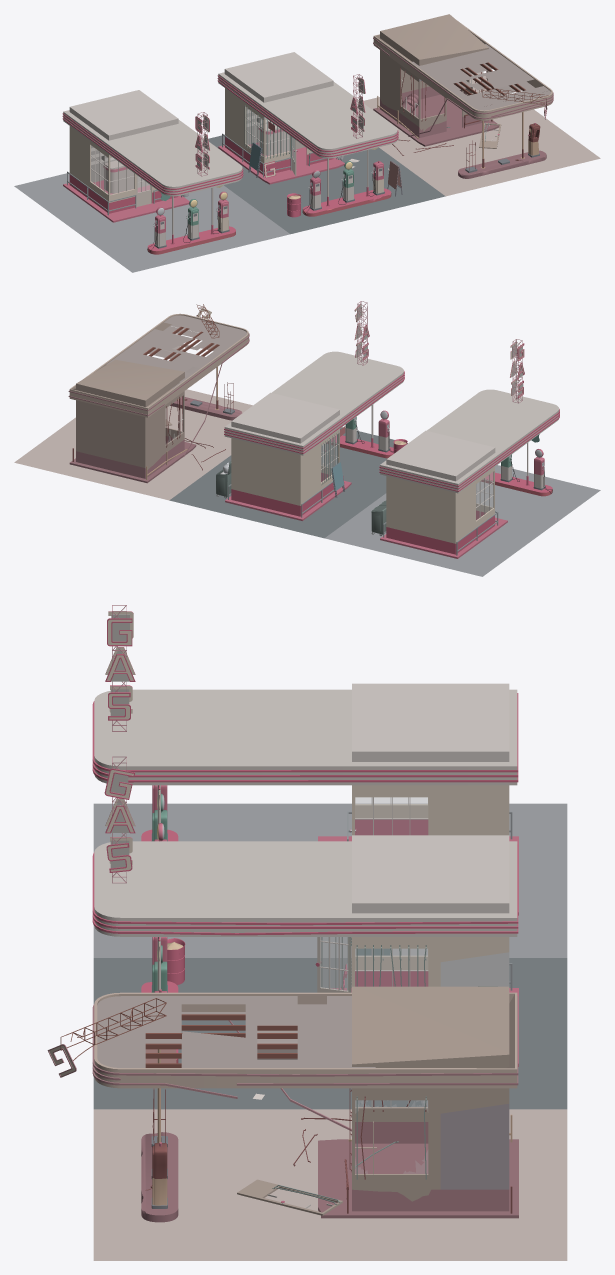
Rendered from gas_stations.glb.
3 renders of one model, top to bottom at view 1: azimuth 30°, elevation 25°; view 2: azimuth 150°, elevation 25°; view 3: azimuth 270°, elevation 25°, orthographic. The views are drawn at different scales.
Parts seen in each view (by area): view 1: Mesh (11), Mesh (594), Mesh (419), Mesh (2), Mesh (177), Mesh (482), Mesh (644), Mesh (45), Mesh (294), Mesh (617), Mesh (173), Mesh (631) (+20 smaller); view 2: Mesh (11), Mesh (594), Mesh (173), Mesh (177), Mesh (2), Mesh (419), Mesh (617), Mesh_new_base_0, Mesh (482), Mesh (45), Mesh (294), Mesh (644) (+13 smaller); view 3: Mesh (594), Mesh (177), Mesh (2), Mesh (419), Mesh (11), Mesh (617), Mesh (644), Mesh (482), Mesh (45), Mesh (294), Mesh (631), Mesh (173) (+20 smaller).
Part boxes in pixels (x1,y1,x2,y2): Mesh (11): [14, 173, 289, 272]; Mesh (594): [363, 72, 600, 196]; Mesh (419): [208, 134, 445, 234]; Mesh (2): [63, 110, 242, 196]; Mesh (177): [218, 72, 397, 158]; Mesh (482): [411, 44, 549, 108]; Mesh (644): [380, 14, 488, 65]; Mesh (45): [69, 90, 178, 140]; Mesh (294): [224, 52, 333, 102]; Mesh (617): [380, 44, 488, 137]; Mesh (173): [225, 88, 333, 175]; Mesh (631): [373, 20, 552, 120]; Mesh (11): [324, 465, 600, 576]; Mesh (594): [14, 389, 252, 500]; Mesh (173): [231, 429, 339, 516]; Mesh (177): [224, 351, 403, 455]; Mesh (2): [380, 389, 559, 493]; Mesh (419): [169, 427, 407, 538]; Mesh (617): [76, 388, 184, 478]; Mesh_new_base_0: [386, 467, 494, 543]; Mesh (482): [106, 318, 244, 388]; Mesh (45): [386, 430, 495, 481]; Mesh (294): [231, 392, 339, 443]; Mesh (644): [76, 359, 184, 406]; Mesh (594): [93, 1109, 567, 1260]; Mesh (177): [94, 841, 517, 936]; Mesh (2): [94, 689, 517, 785]; Mesh (419): [93, 958, 567, 1109]; Mesh (11): [93, 803, 567, 957]; Mesh (617): [352, 1088, 509, 1211]; Mesh (644): [352, 986, 509, 1068]; Mesh (482): [120, 996, 375, 1067]; Mesh (45): [352, 683, 509, 761]; Mesh (294): [352, 835, 509, 913]; Mesh (631): [94, 992, 517, 1088]; Mesh (173): [352, 937, 509, 986].
Bounding box in the file's own units: 1959 × 542 × 941.
